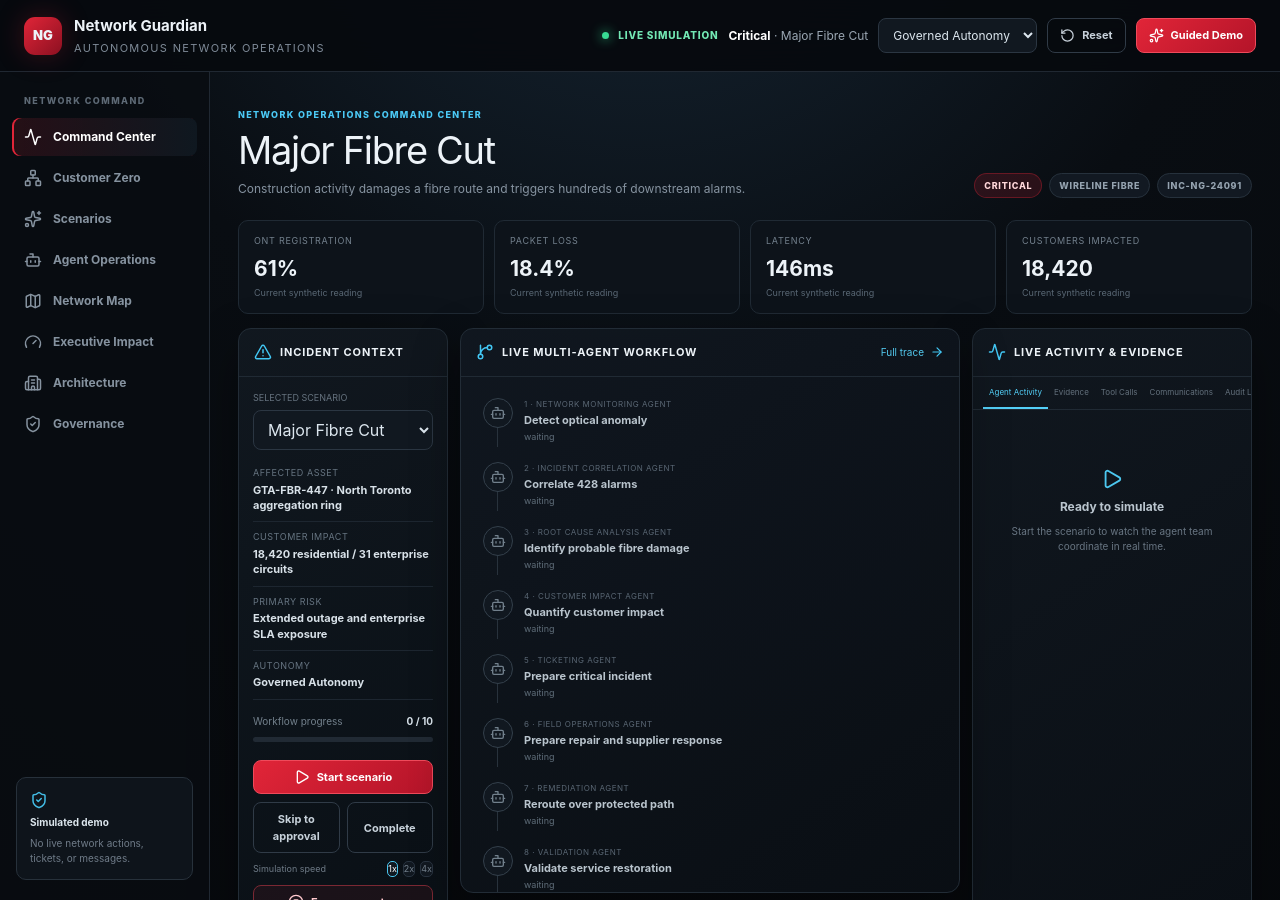
Test case: Network Guardian › emergency stop prevents additional execution
This screenshot has width=1280, height=900.
Click the button "Start scenario".
click(343, 777)  # box 253,760 -> 433,794
(page scrolled)
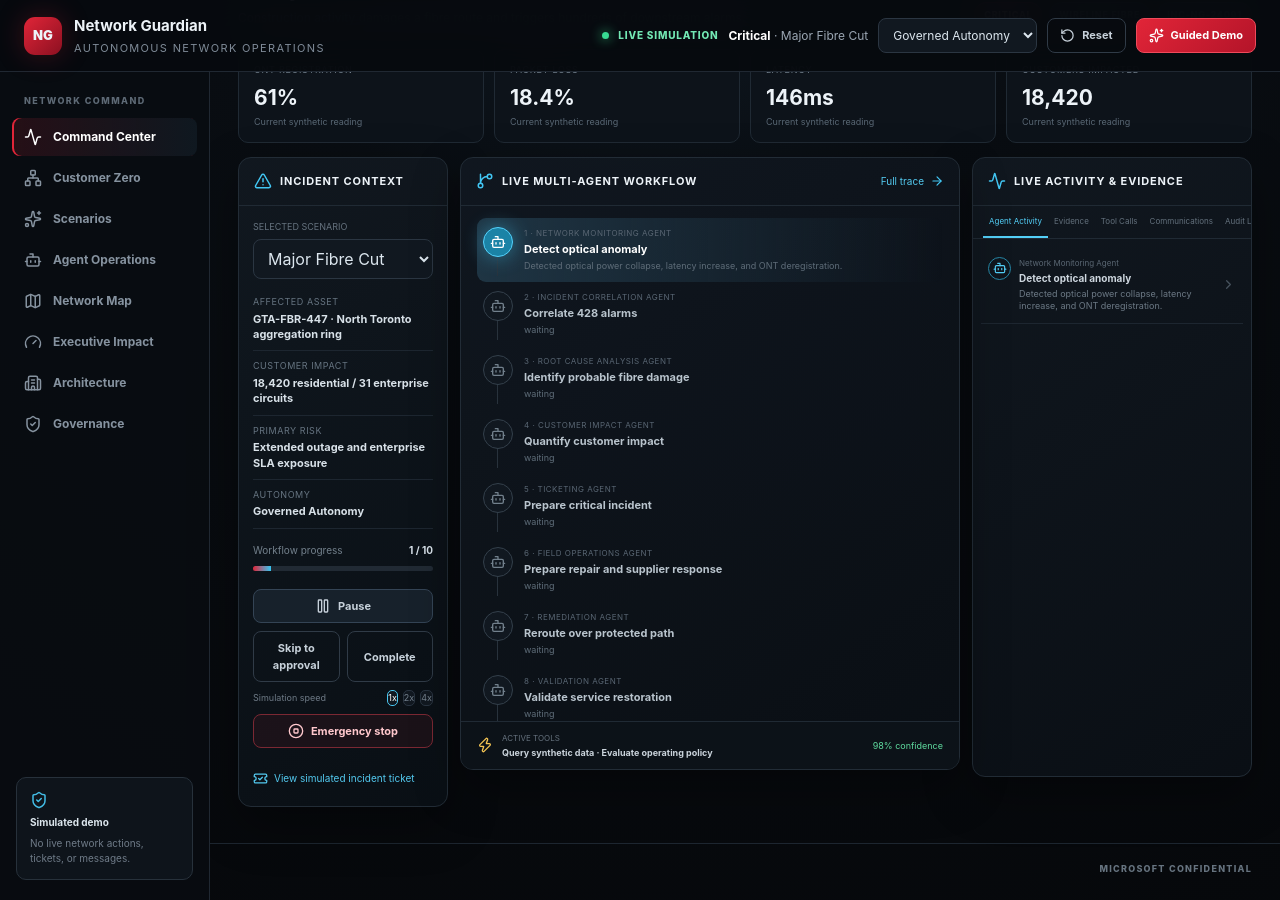
Click the button "Emergency stop".
click(343, 731)  # box 253,714 -> 433,748
Wait 10000 ms
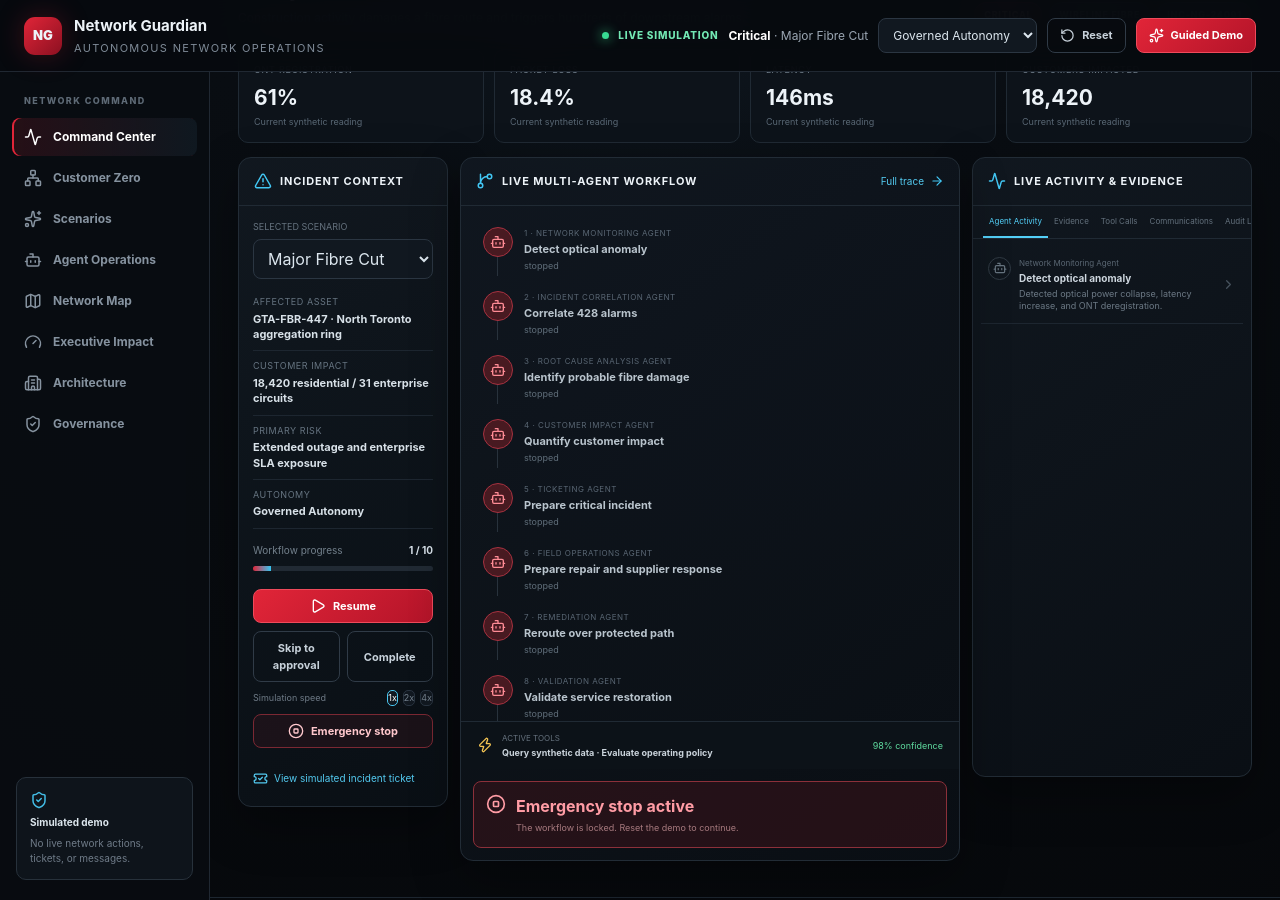
Check: the text "1 / 10" is shown, box 409,543 -> 433,558
Check: the text "Emergency stop active" is shown, box 516,796 -> 694,816
